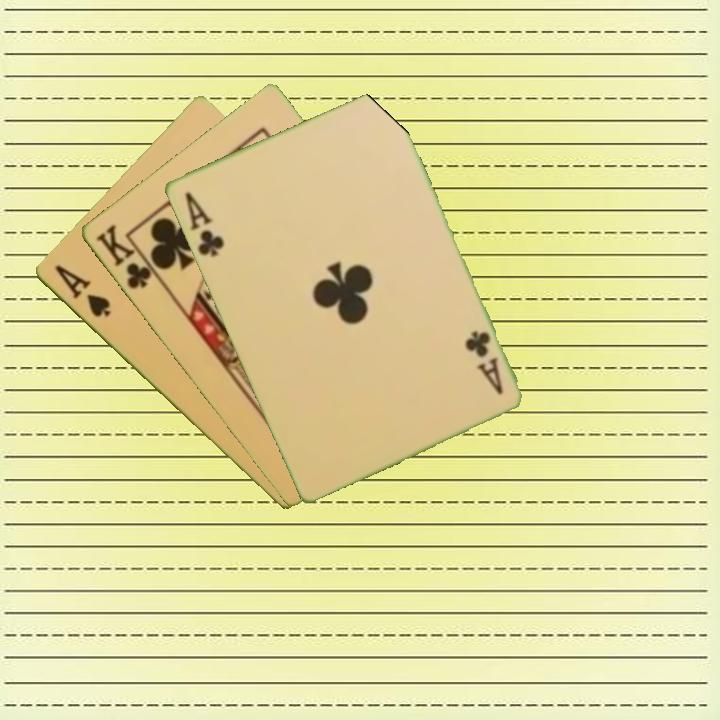Ac: (181, 188, 227, 260), (460, 326, 505, 398)
As: (50, 261, 113, 320)
Kc: (91, 220, 162, 292)
